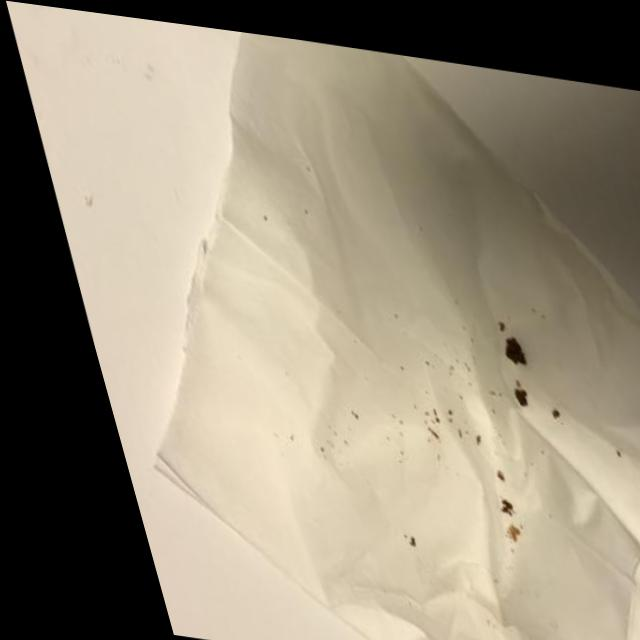trash: (6, 1, 640, 640)
